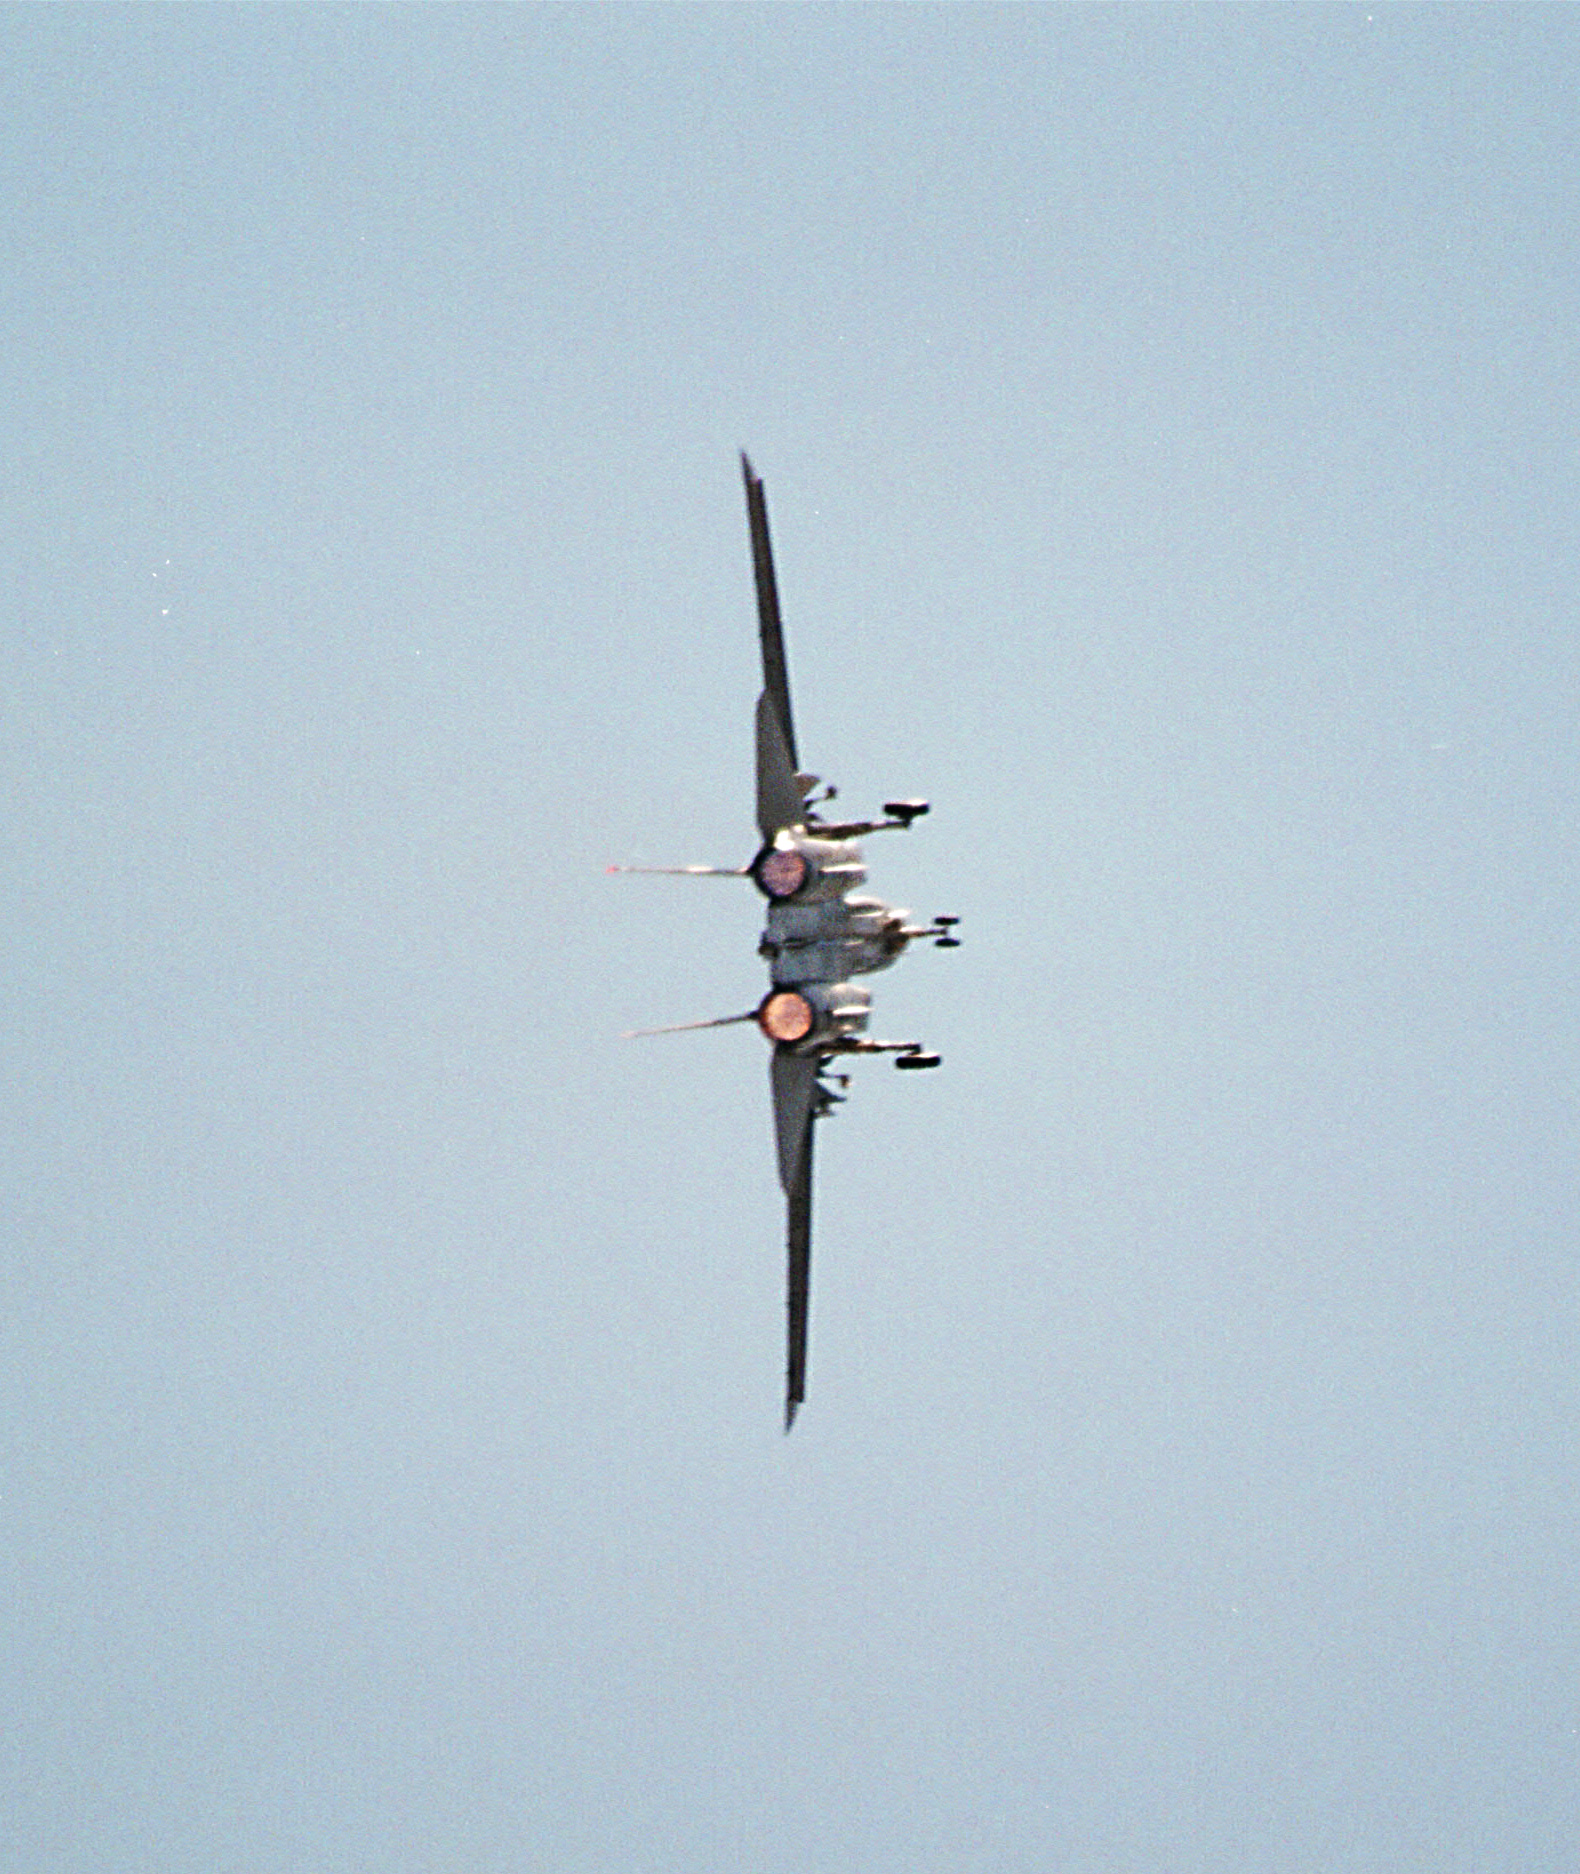F14: (602, 447, 962, 1437)
